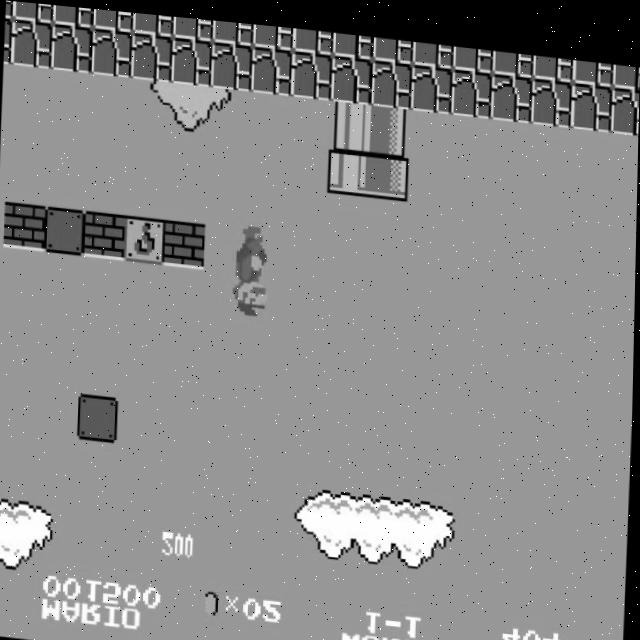0- big_mario: (227, 219, 274, 318)
1- brick_block: (4, 201, 47, 251), (84, 208, 126, 258), (164, 215, 206, 265)
13- mystery_block: (124, 212, 166, 262)
14- pipe: (328, 94, 371, 144), (368, 97, 411, 147)
15- pipe_head: (367, 142, 410, 193), (327, 139, 370, 189)
17- undestructible_block: (50, 21, 93, 72), (90, 25, 133, 76), (170, 32, 213, 83), (10, 18, 53, 68), (130, 29, 173, 79), (210, 37, 253, 87), (250, 40, 293, 90), (290, 44, 333, 94), (330, 48, 373, 98), (370, 51, 413, 101), (410, 55, 453, 105), (450, 59, 493, 109), (490, 63, 533, 113), (530, 66, 573, 116), (570, 70, 613, 120), (610, 74, 640, 123), (332, 25, 373, 52), (372, 29, 413, 56), (412, 33, 453, 60), (452, 36, 493, 63), (492, 40, 533, 67), (532, 44, 573, 71), (572, 47, 613, 74), (292, 22, 333, 48), (212, 16, 253, 41), (252, 19, 293, 44), (172, 13, 213, 37), (92, 7, 133, 30), (132, 10, 173, 33), (52, 4, 93, 26), (12, 1, 53, 22), (611, 52, 640, 77), (3, 17, 12, 64), (5, 0, 12, 18)
3- empty_block: (44, 204, 87, 254), (77, 391, 120, 441)
